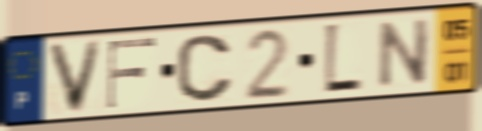2: (243, 26, 293, 103)
C: (173, 32, 237, 105)
F: (104, 34, 159, 112)
L: (321, 20, 365, 99)
N: (375, 15, 434, 92)
V: (44, 37, 106, 117)
